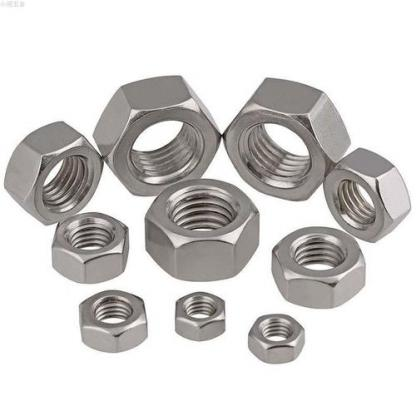FOD: (222, 64, 354, 204), (92, 60, 222, 198), (142, 176, 262, 280), (6, 120, 105, 224), (323, 142, 411, 246), (266, 223, 369, 306), (48, 210, 133, 284), (76, 288, 149, 352), (245, 313, 308, 363), (170, 292, 227, 342)
